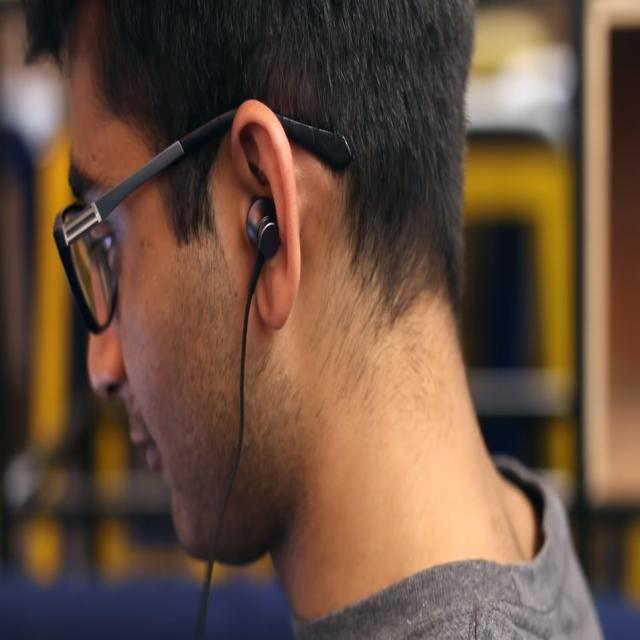Earphone: (192, 196, 280, 639)
